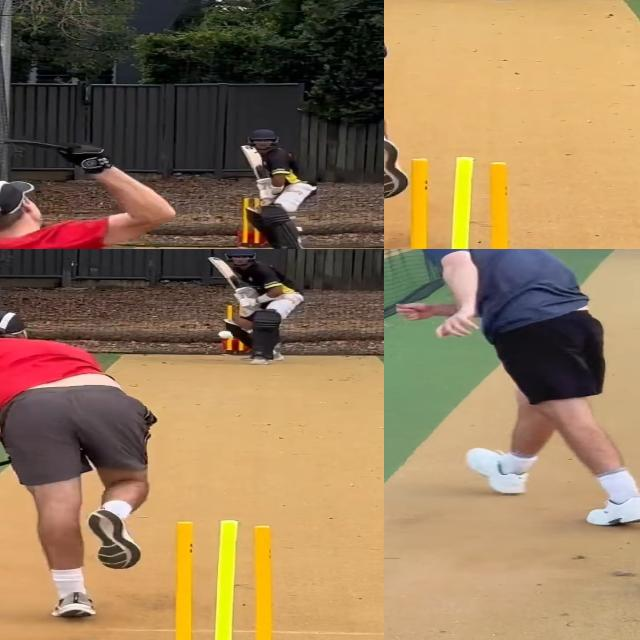Cricket ball: (217, 330, 235, 340)
Stumps: (153, 520, 290, 640), (389, 157, 526, 249)
